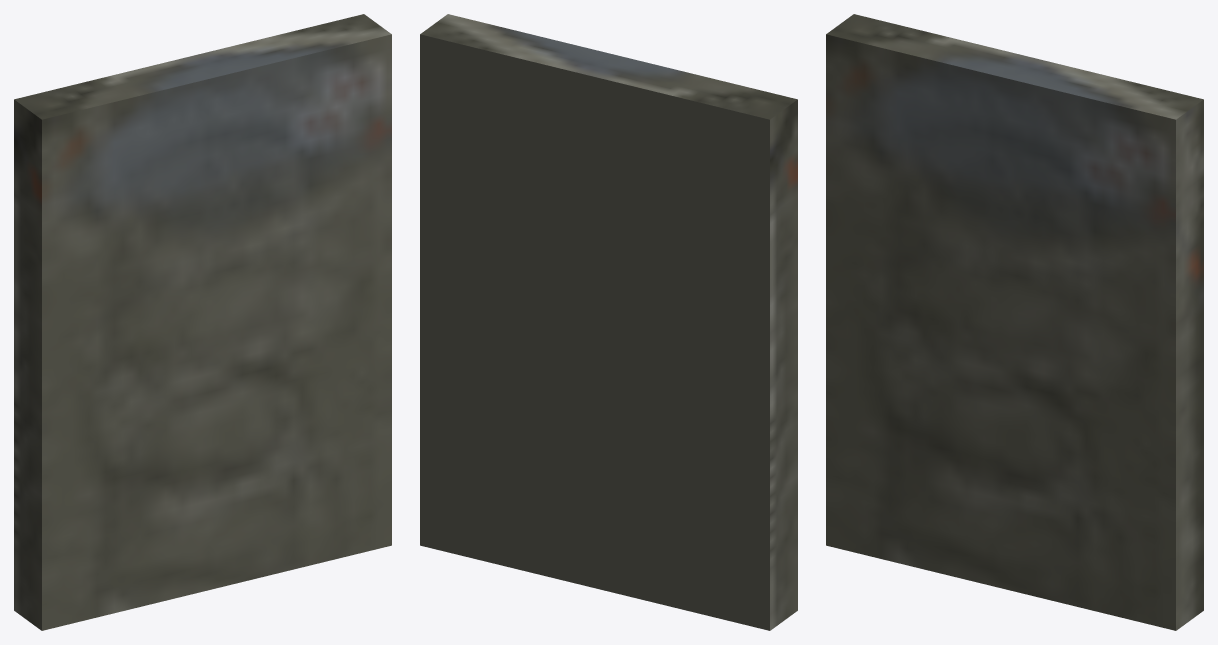
The model's file is section-2.obj.
The picture shows the model from 3 angles, left to right: view 1: azimuth 30°, elevation 25°; view 2: azimuth 150°, elevation 25°; view 3: azimuth 330°, elevation 25°; orthographic projection.
Size of the model in its own units: 0.6263 by 0.8742 by 0.0861.
1 material, 1 textured.
